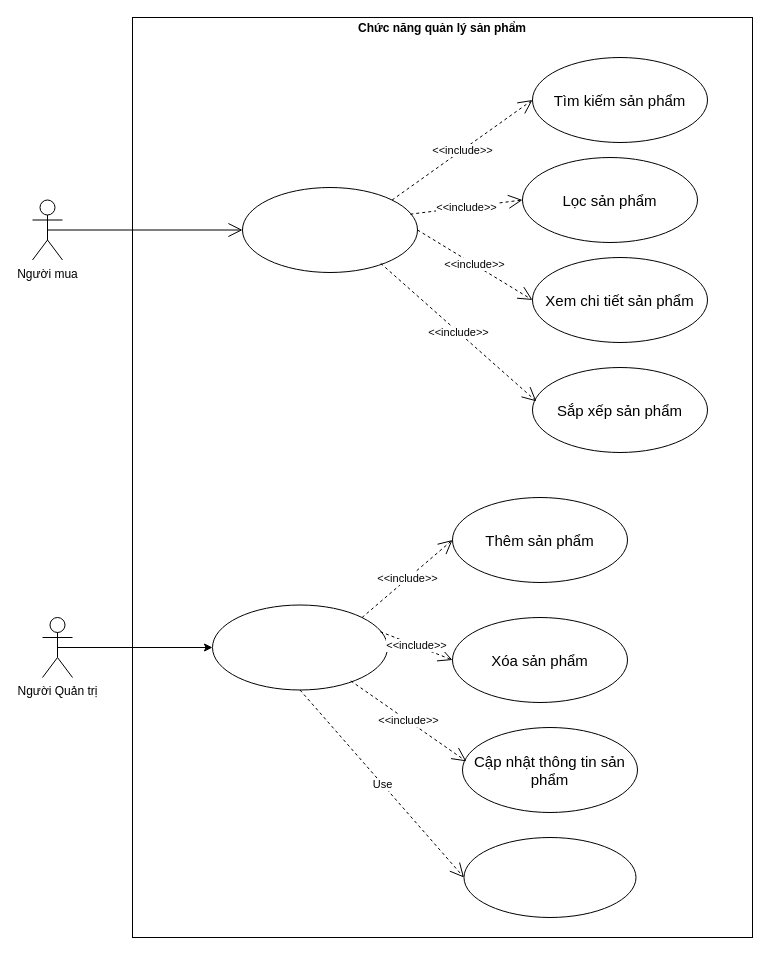
Some shapes in this 770 by 955 pixel diagram are drawn without their labels. Each missing label, with the centre of its shape:
Câp nhật số lượng tồn kho: pixel 549 877
Khám phá sản phẩm: pixel 330 229
Quản lý sản phẩm: pixel 300 647
